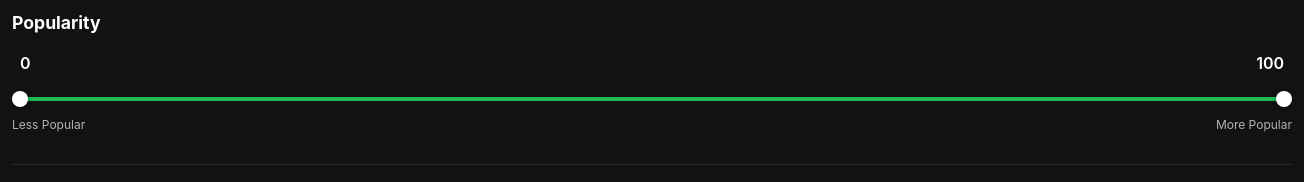
Test case: PopularityFilter › allows clicking on min value to edit it
This screenshot has width=1304, height=182.
Click the text "0": click(25, 63) x1=20 y1=53 x2=31 y2=73
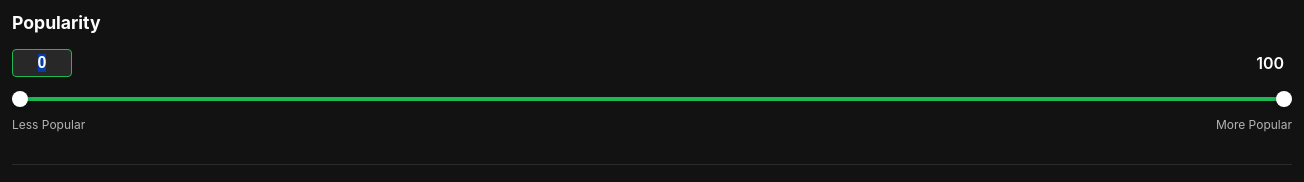
Now the number field showing "0" is shown, box x1=12 y1=49 x2=72 y2=77
